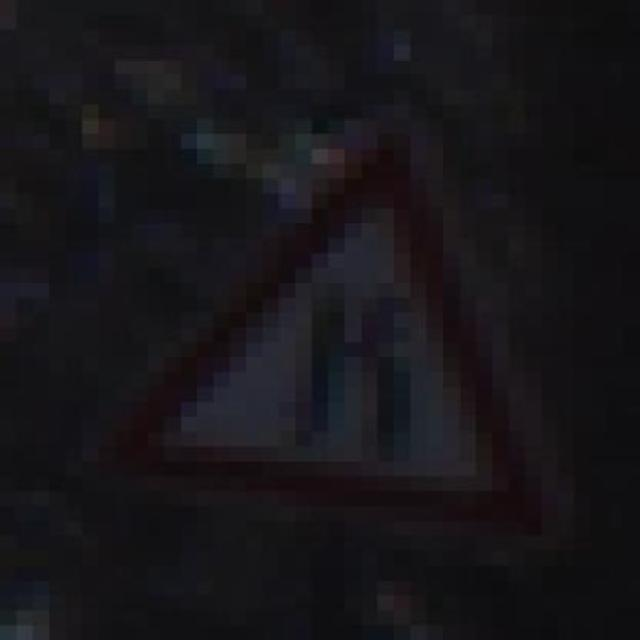-Road narrows on right: (81, 89, 558, 566)
